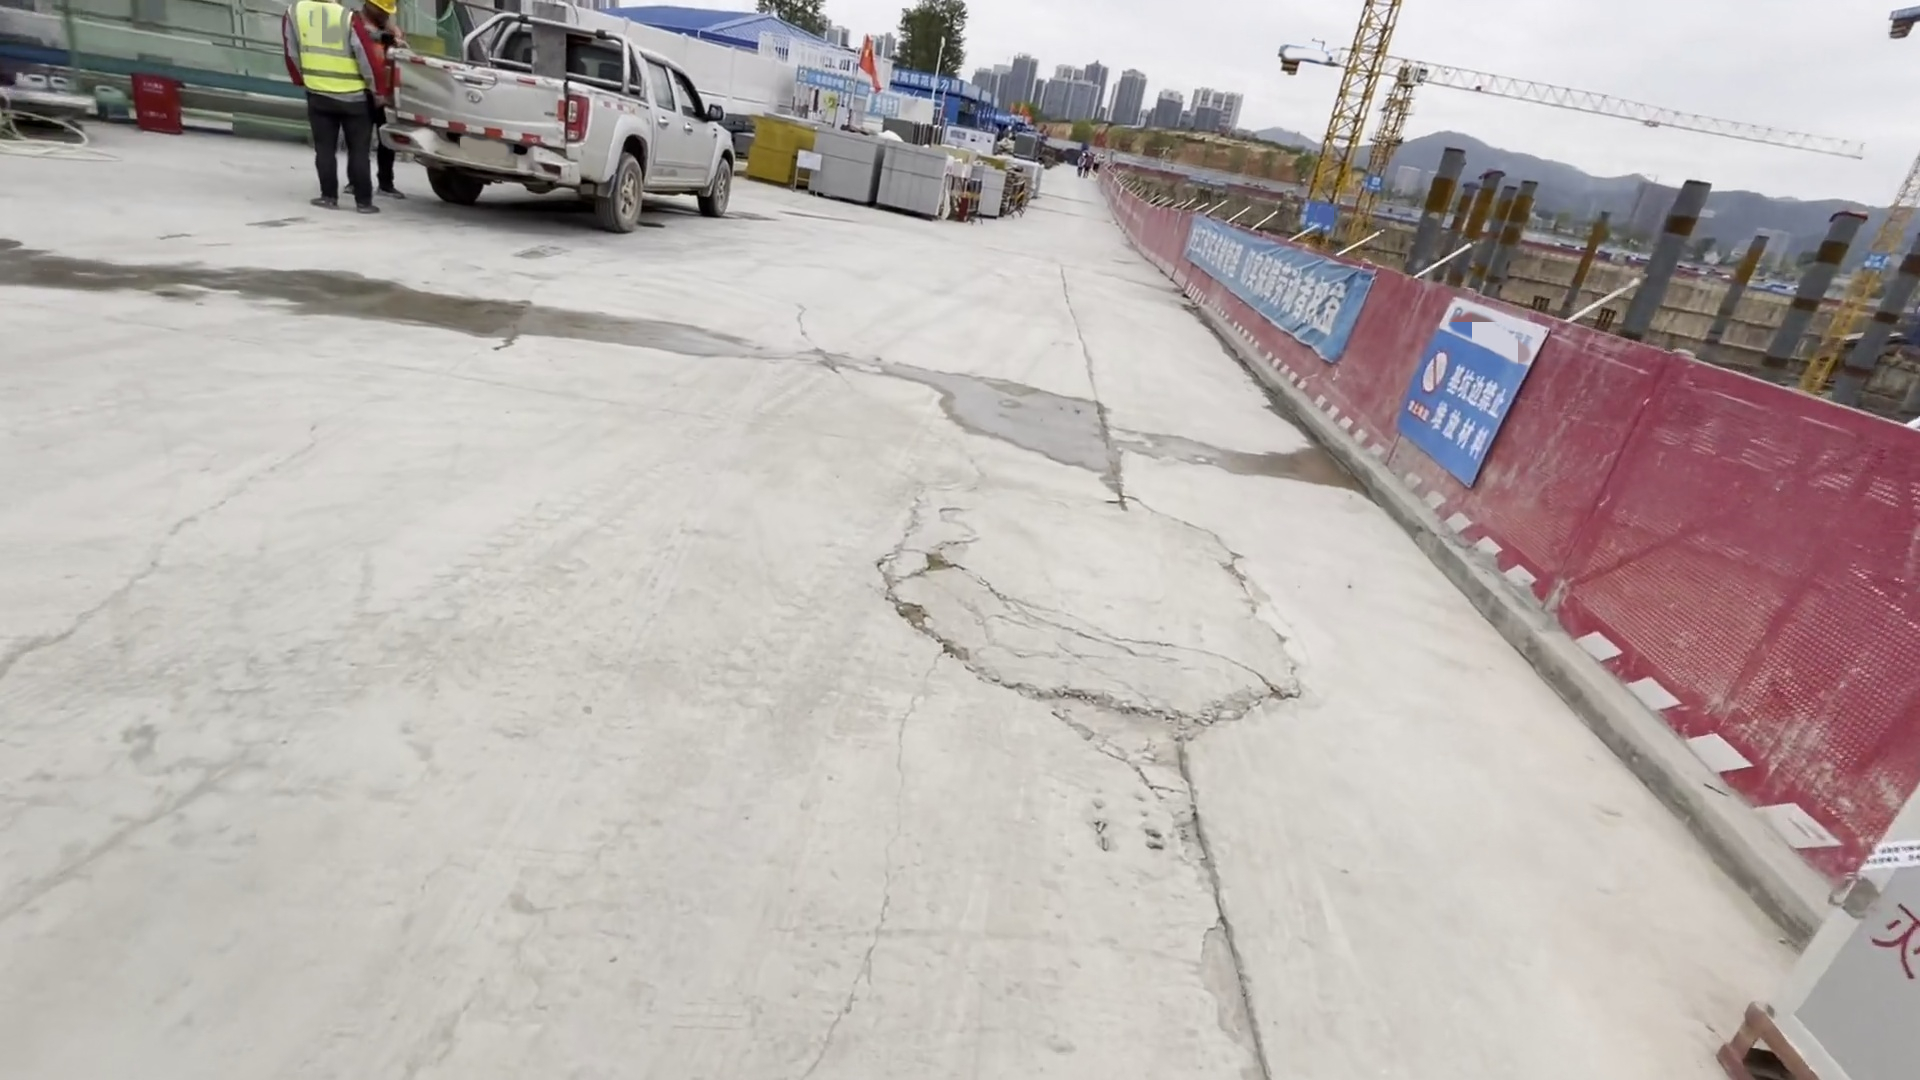board: (754, 115, 808, 186)
brick: (805, 128, 956, 223), (964, 159, 1009, 224)
fence: (1087, 174, 1920, 871)
person: (289, 1, 364, 217), (353, 1, 412, 202)
slogan: (1170, 208, 1392, 374), (1405, 324, 1511, 446), (891, 64, 947, 93)
vest: (286, 1, 362, 95), (355, 19, 402, 104)
